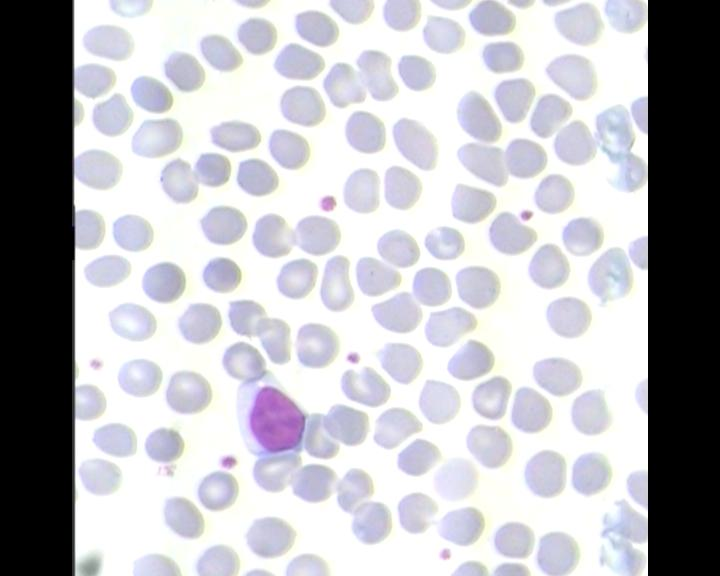lymp: (233, 367, 314, 459)
